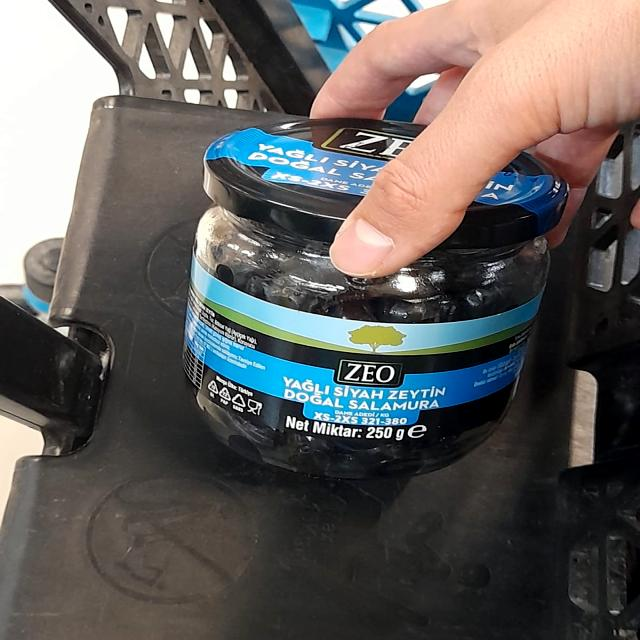olive: (168, 94, 589, 509)
